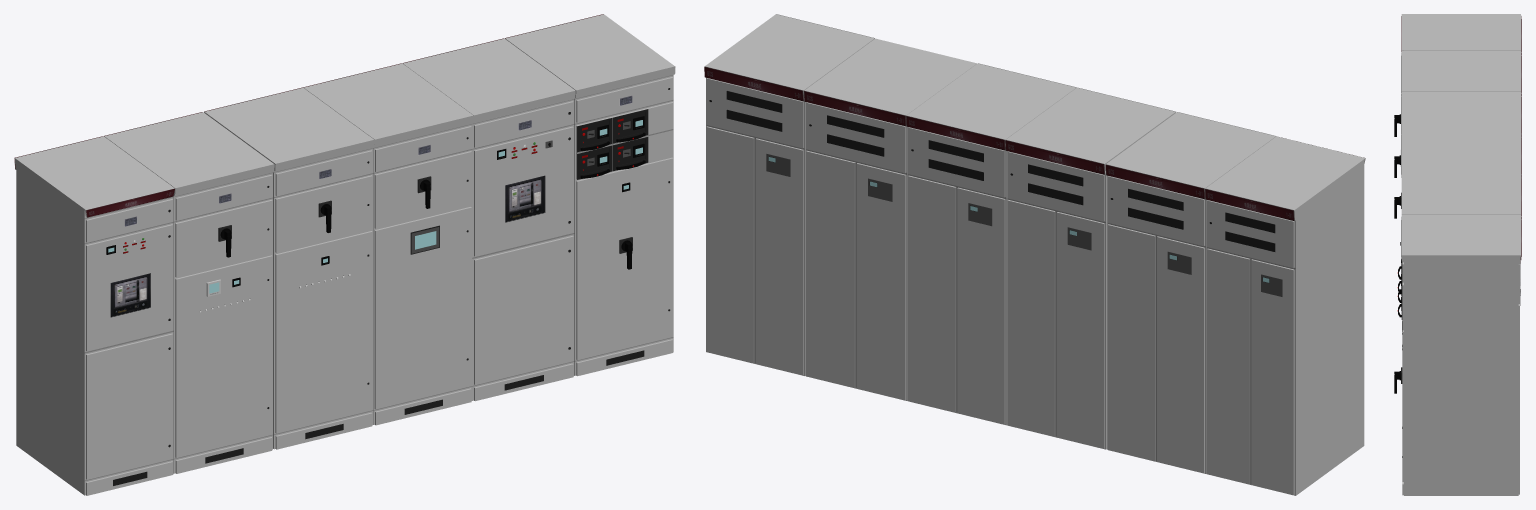
The picture shows the model from 3 angles, left to right: view 1: azimuth 30°, elevation 25°; view 2: azimuth 150°, elevation 25°; view 3: azimuth 270°, elevation 25°; orthographic projection. The views are drawn at different scales.
Visible parts, largest first — view 1: 1-D01-guiti, guiti.003, guiti.001, guiti, guiti.002, 1-D06, xia-01, top-01, top-02, xia-02; view 2: 1-D01-guiti, guiti.003, guiti.001, 1-D06, guiti, guiti.002; view 3: 1-D06, guiti.001, guiti, guiti.003, guiti.002, 1-D01-guiti.
Part boxes in pixels (box(x1,y1,x2,y2)): 1-D01-guiti: box(14, 136, 174, 495); guiti.003: box(402, 38, 575, 401); guiti.001: box(204, 87, 374, 449); guiti: box(104, 112, 274, 473); guiti.002: box(303, 63, 473, 425); 1-D06: box(504, 14, 675, 376); xia-01: box(577, 145, 612, 179); top-01: box(577, 118, 612, 152); top-02: box(613, 109, 648, 143); xia-02: box(613, 137, 648, 170); 1-D01-guiti: box(1205, 136, 1365, 495); guiti.003: box(804, 38, 976, 400); guiti.001: box(1005, 87, 1176, 449); 1-D06: box(704, 14, 874, 375); guiti: box(1105, 112, 1276, 473); guiti.002: box(906, 63, 1076, 425); 1-D06: box(1394, 215, 1521, 495); guiti.001: box(1394, 91, 1521, 334); guiti: box(1394, 50, 1521, 136); guiti.003: box(1400, 173, 1521, 428); guiti.002: box(1394, 132, 1521, 218); 1-D01-guiti: box(1401, 14, 1521, 54).
Bounding box in the file's own units: 4.73 × 2.2 × 1.06.
12 materials, 1 textured.
